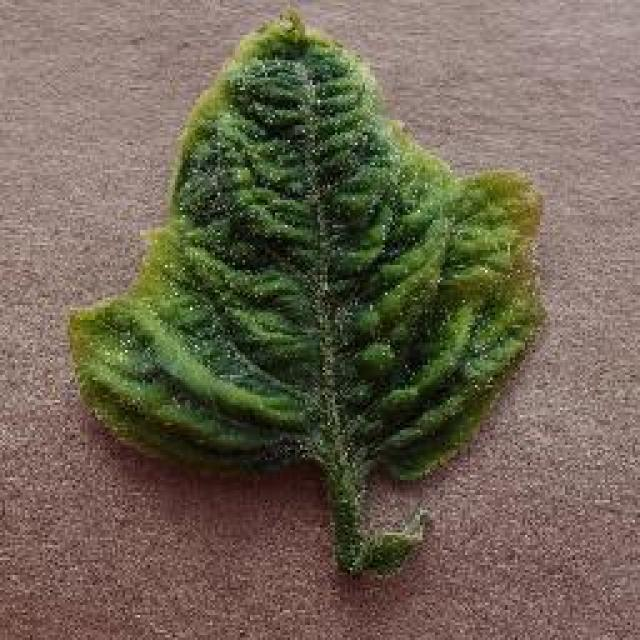Tomato yellow virus leaf: (66, 18, 544, 470)
